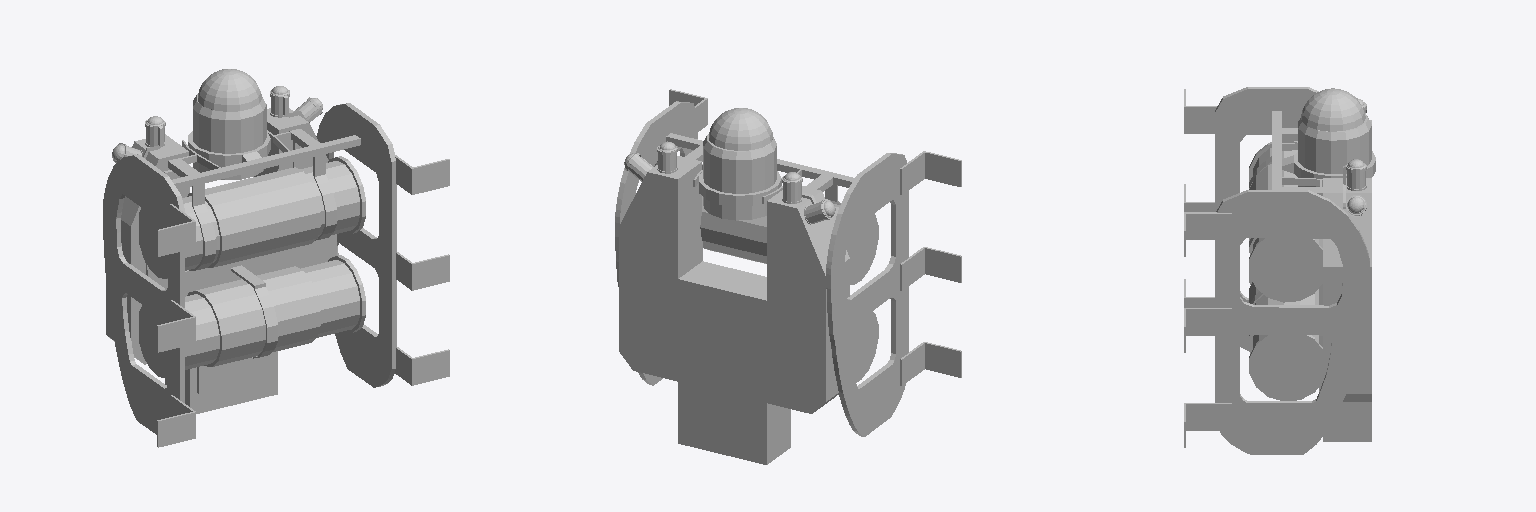
The model's file is Body.obj.
The picture shows the model from 3 angles: view 1: azimuth 30°, elevation 25°; view 2: azimuth 150°, elevation 25°; view 3: azimuth 270°, elevation 25°; orthographic projection.
Bounding box in the file's own units: 3.6 × 3.88 × 2.06.